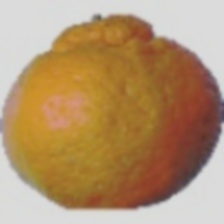tangerine: (59, 43, 196, 224)
